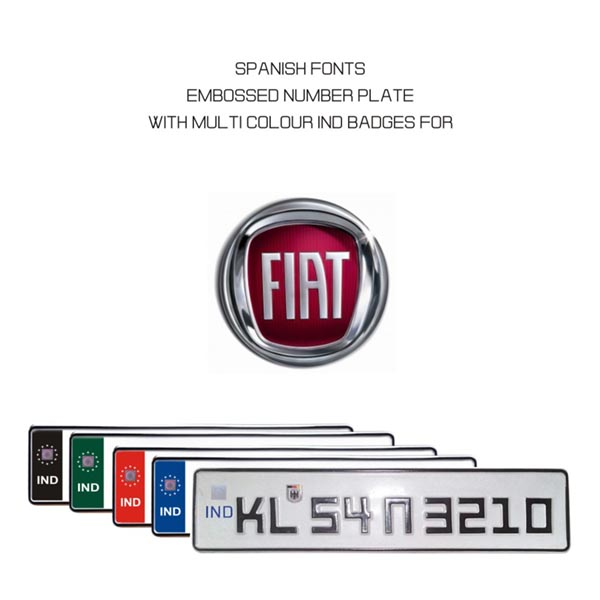number_plate: (195, 466, 571, 553)
